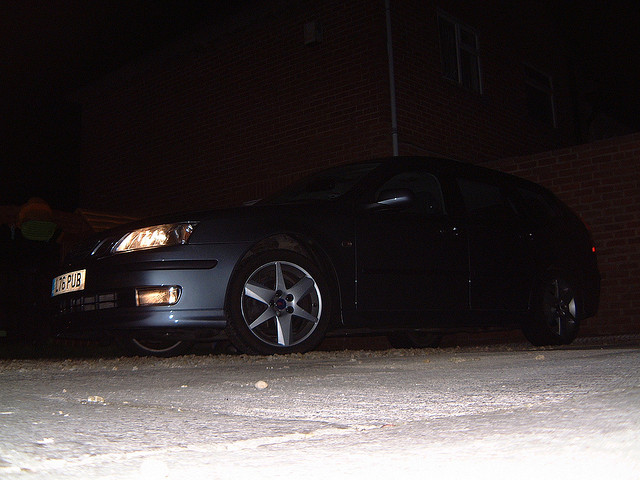car: (38, 150, 608, 366)
